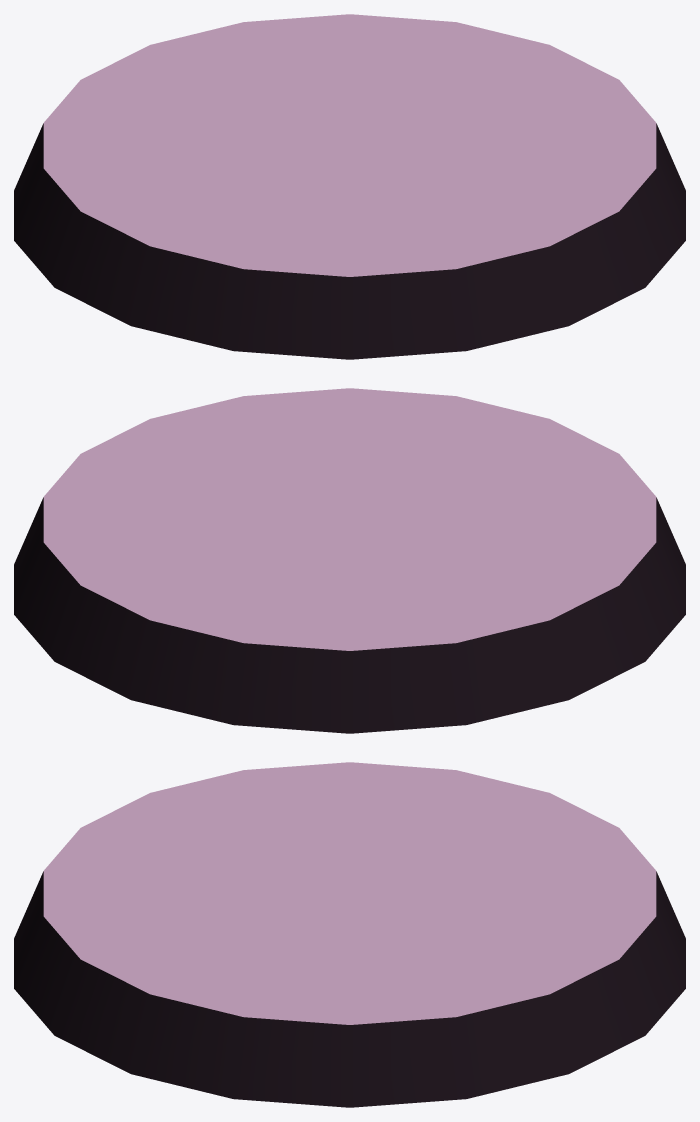
File: Prop_sci_light_floor1.FBX
3 renders of one model, top to bottom at view 1: azimuth 30°, elevation 25°; view 2: azimuth 150°, elevation 25°; view 3: azimuth 270°, elevation 25°, orthographic.
Parts seen in each view (by area): view 1: Cylinder002; view 2: Cylinder002; view 3: Cylinder002.
Boxes of the visible parts, box(x1,y1,x2,y2) form: Cylinder002: box(14, 14, 685, 359); Cylinder002: box(14, 388, 685, 733); Cylinder002: box(14, 762, 685, 1107).
Size of the model in its own units: 2.81 by 0.3182 by 2.77.
